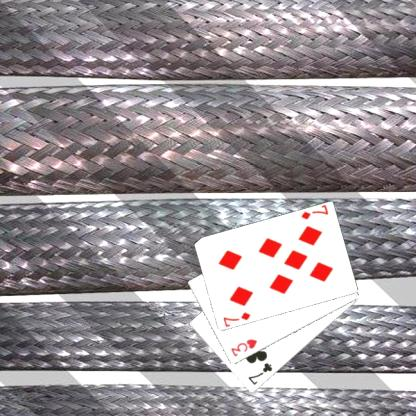3H: (228, 336, 258, 358)
7C: (245, 360, 274, 387)
7D: (220, 310, 252, 328), (298, 203, 329, 221)
